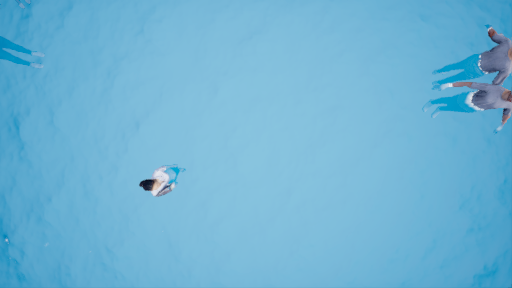person: (424, 21, 512, 82), (413, 83, 512, 129), (126, 151, 192, 198)
